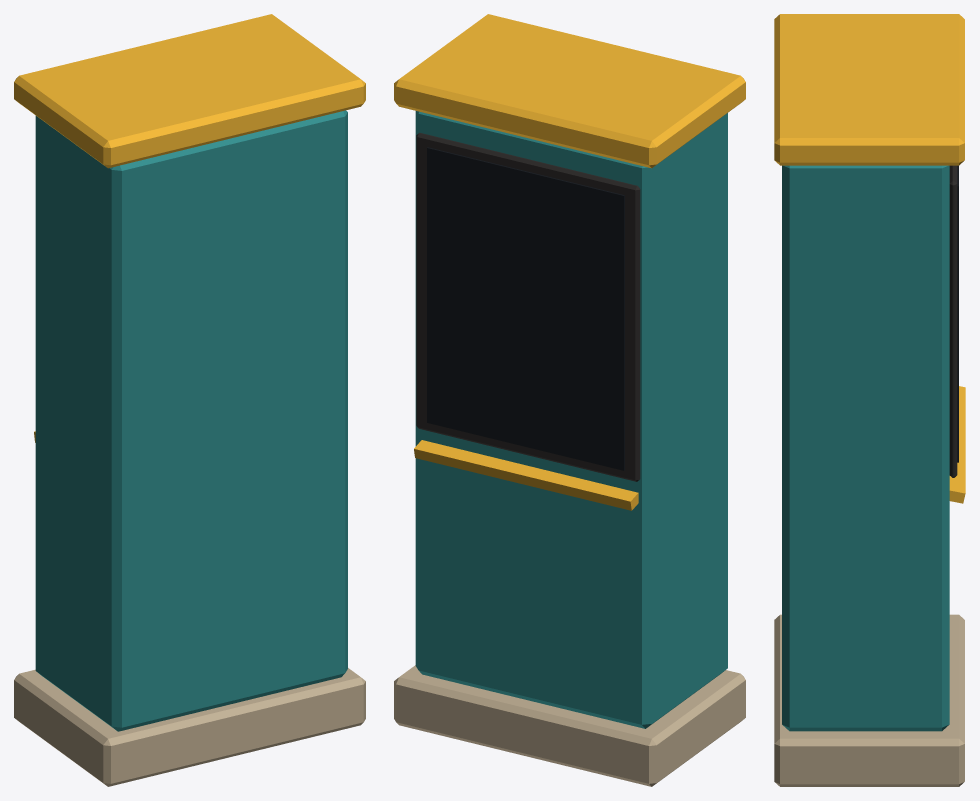
File: kiosk.glb
3 renders of one model, left to right at view 1: azimuth 30°, elevation 25°; view 2: azimuth 150°, elevation 25°; view 3: azimuth 270°, elevation 25°, orthographic.
Parts seen in each view (by area): view 1: body; view 2: body, screen; view 3: body, screen.
Boxes of the visible parts, left/top/right/bottom form: body: left=14, top=14, right=365, bottom=786; body: left=394, top=14, right=745, bottom=786; screen: left=427, top=147, right=624, bottom=470; body: left=774, top=14, right=965, bottom=786; screen: left=957, top=165, right=958, bottom=462.
Bounding box in the file's own units: 0.8 × 1.88 × 0.502.
